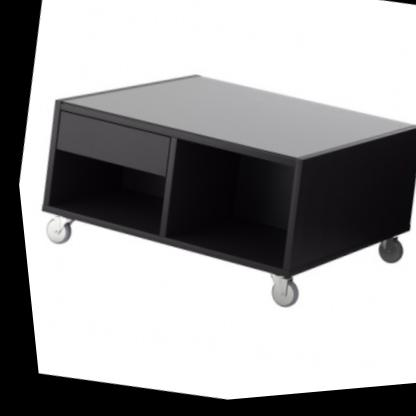Table: (4, 25, 416, 363)
